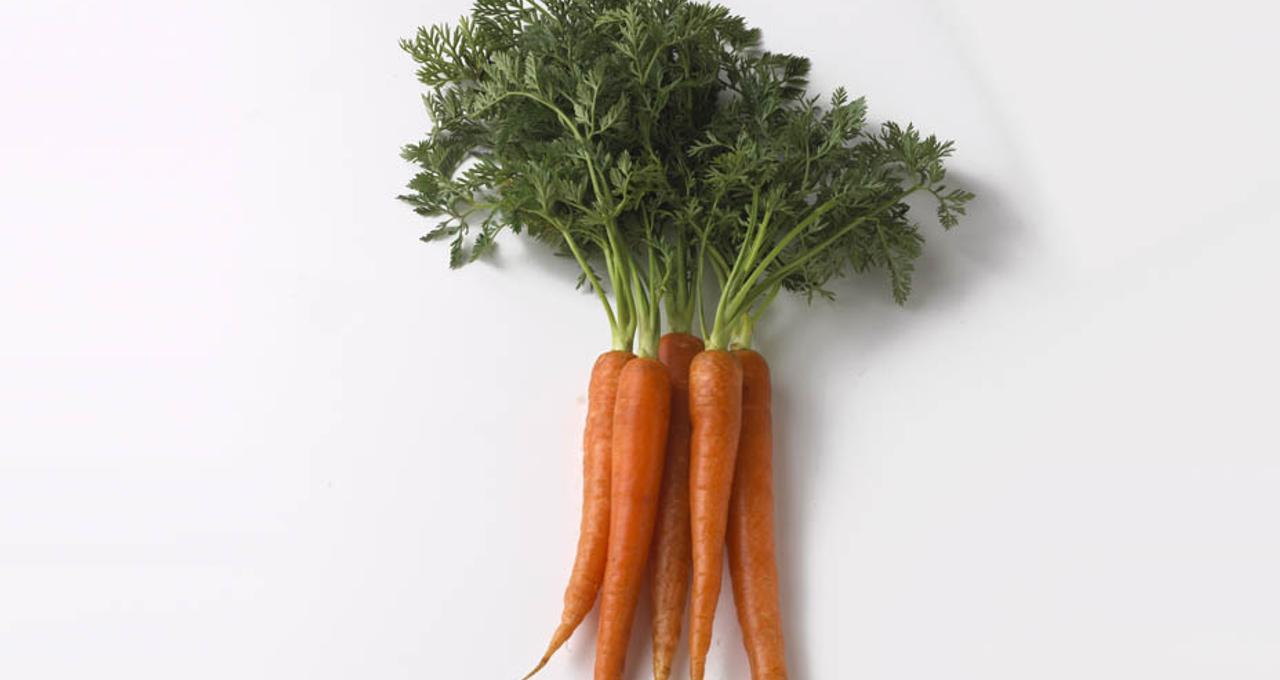carrot: (569, 320, 790, 680), (667, 336, 745, 680), (605, 350, 660, 680)
